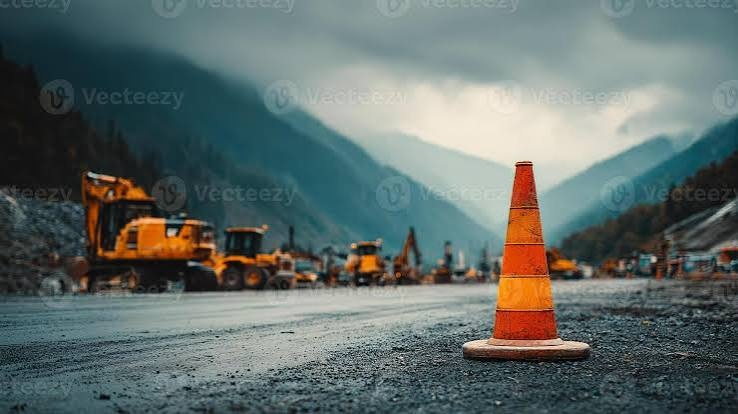machinery: (57, 164, 218, 300), (213, 221, 291, 298), (384, 217, 430, 290), (337, 233, 386, 291), (280, 233, 320, 298)
safety_cone: (459, 155, 605, 372)
